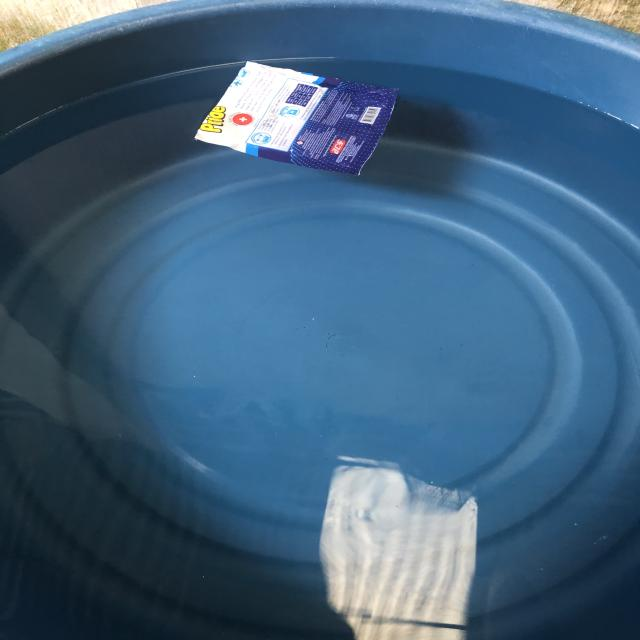Plastic Wrapper: (196, 61, 397, 174)
